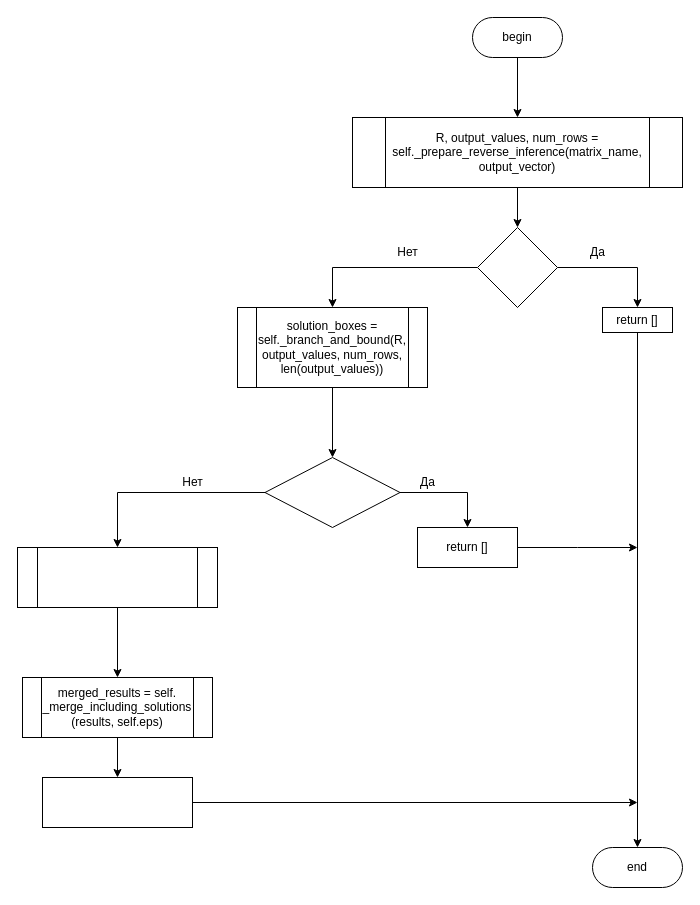
This 700x905 diagram has some shape labels left out. Each missing label, with the centre of its shape:
"not solution_boxes" belongs at point 332,492.
"R is None" belongs at point 517,267.
"results = self._format_solution_boxes (solution_boxes, num_rows)" belongs at point 117,577.
"return merged_results" belongs at point 117,802.
